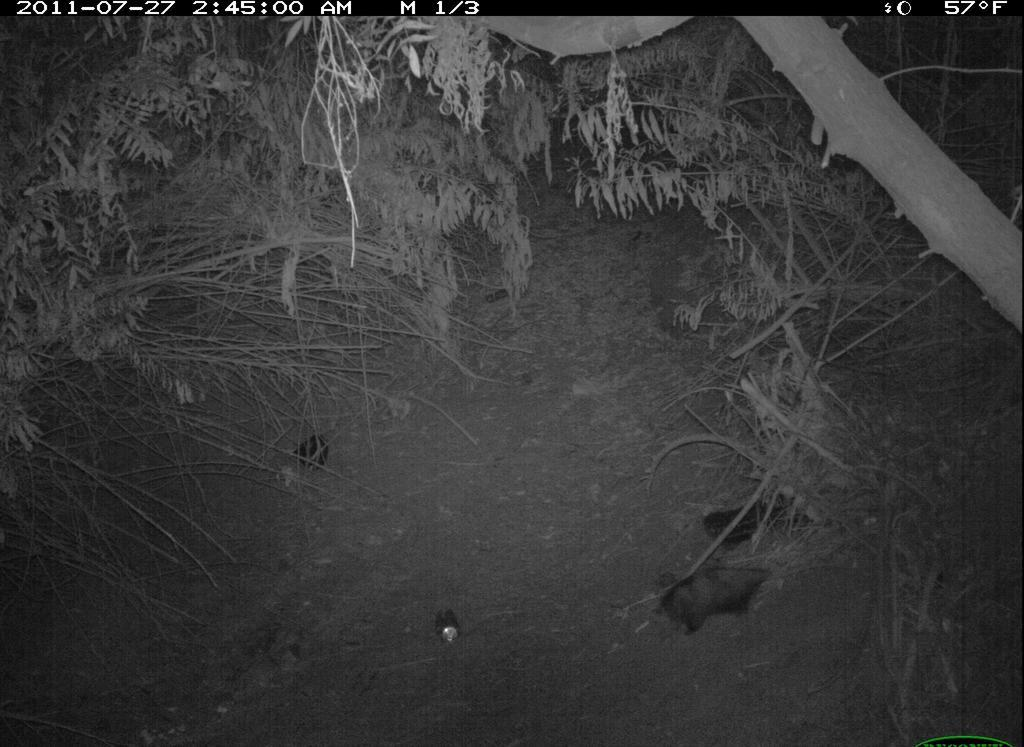opossum: (655, 547, 777, 646)
